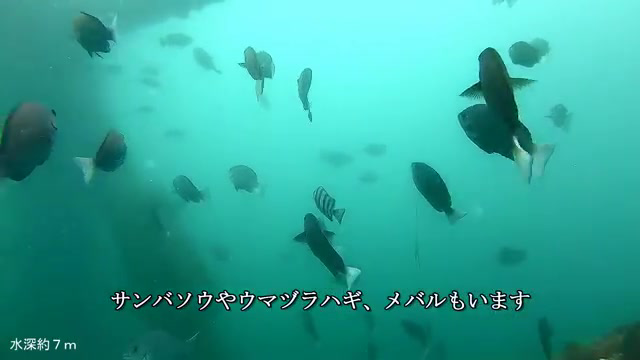ishidai: (300, 180, 347, 223)
smallfish: (474, 47, 571, 160), (406, 156, 480, 233), (69, 6, 121, 62), (220, 161, 271, 205)
